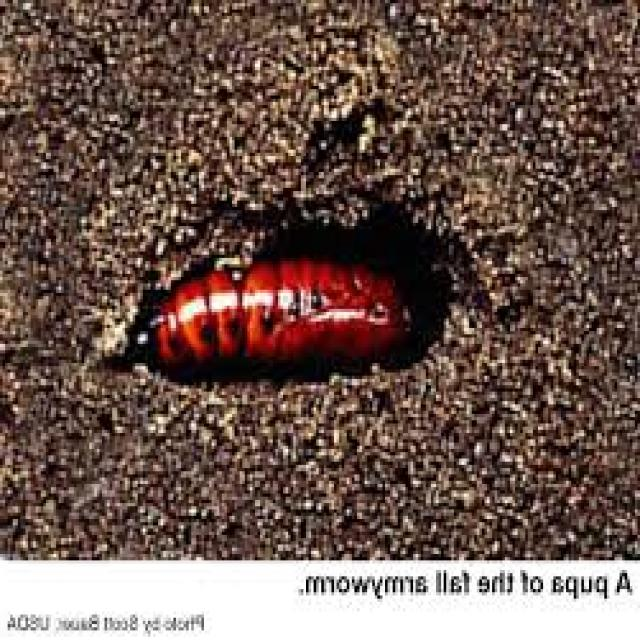armyworm: (120, 252, 426, 379)
